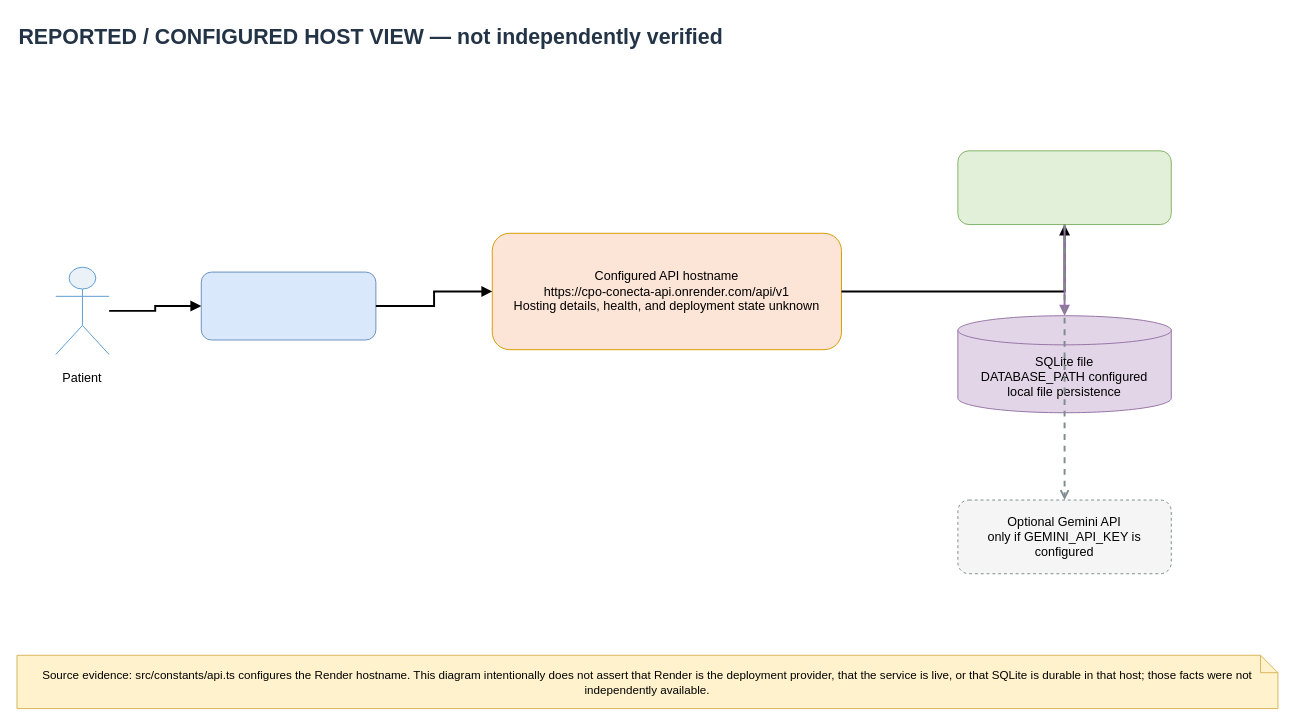
This 1295x726 diagram has some shape labels left out. The box of each missing label's shape, as (x1, y1, x2, y2) in pixels:
Mobile app Expo client: (200, 271, 376, 340)
Node / Express API Current code path: (957, 150, 1171, 225)
